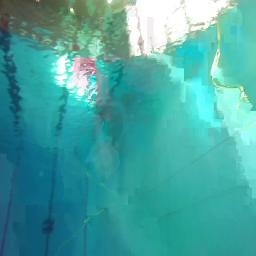Full: (42, 224, 56, 236)
